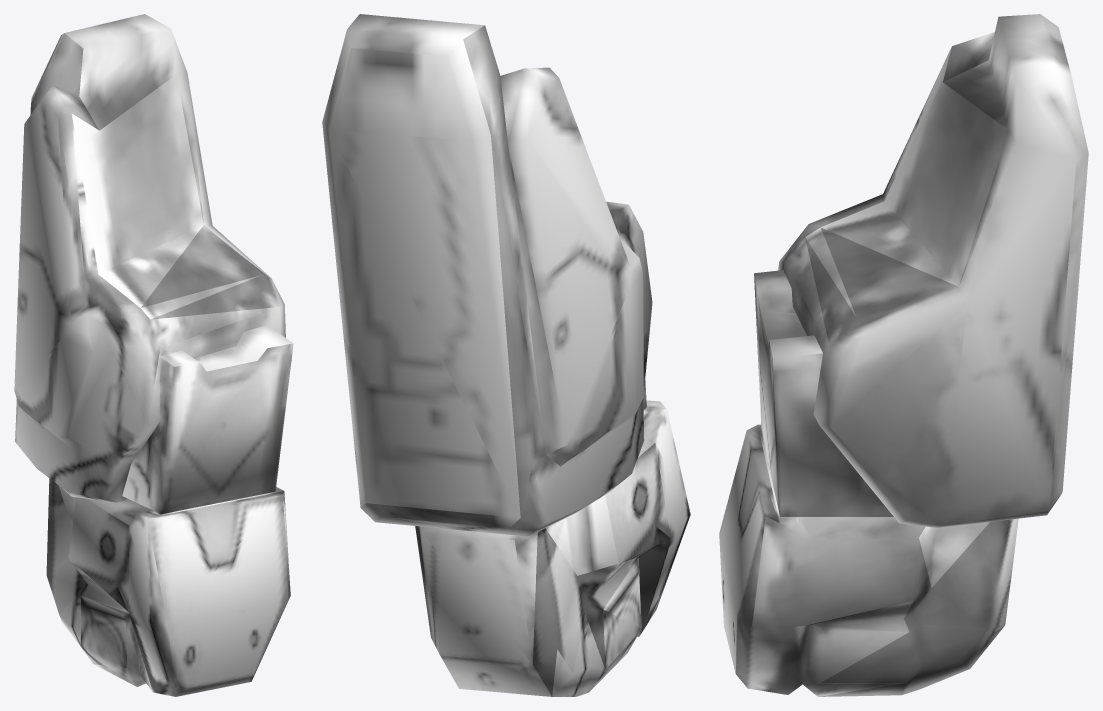
File: r_fore.glb
The picture shows the model from 3 angles, left to right: view 1: azimuth 30°, elevation 25°; view 2: azimuth 150°, elevation 25°; view 3: azimuth 270°, elevation 25°; orthographic projection. The views are drawn at different scales.
Parts seen in each view (by area): view 1: r_fore; view 2: r_fore; view 3: r_fore.
Boxes of the visible parts, <box> form: r_fore: <box>14,14,293,696</box>; r_fore: <box>322,14,690,696</box>; r_fore: <box>719,14,1088,696</box>.
Size of the model in its own units: 0.3358 by 0.9046 by 0.4601.
Materials: 3 (3 with a texture image).
